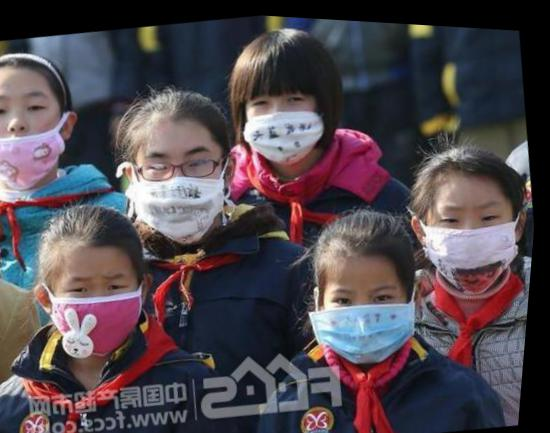OK: (420, 174, 530, 298), (126, 134, 243, 249), (318, 261, 427, 370), (47, 255, 157, 363), (238, 67, 331, 169)
WRONG: (1, 77, 77, 195)
